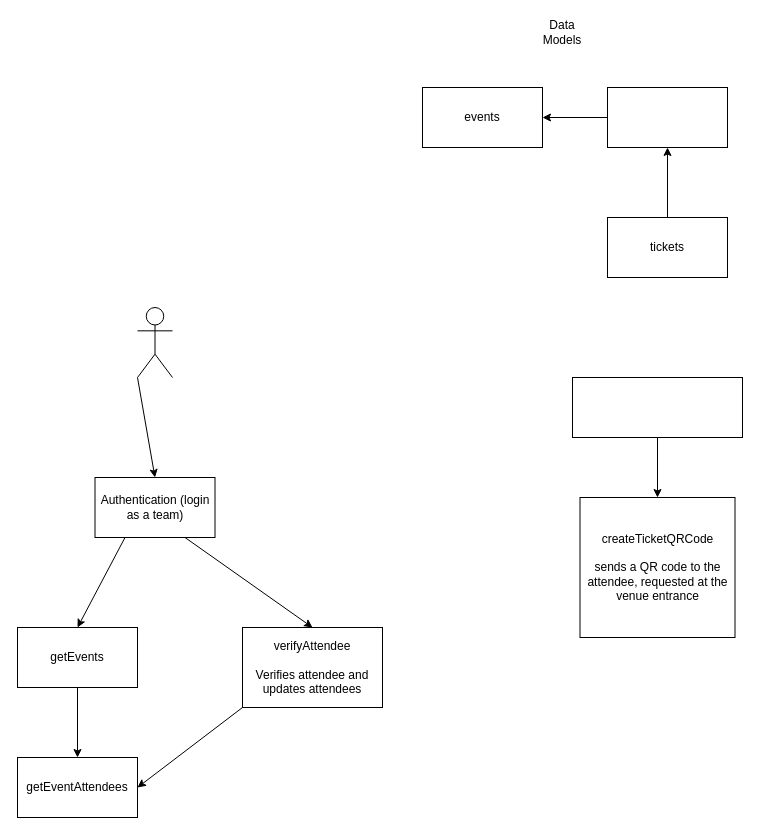
Some shapes in this 760 by 835 pixel diagram are drawn without their labels. Each missing label, with the centre of its shape:
attendees: the point at 667,117
createTicket (handled within CP) (webhook maybe): the point at 657,407
Security guard holding his phone (circa since stickmen were drawn): the point at 154,342
